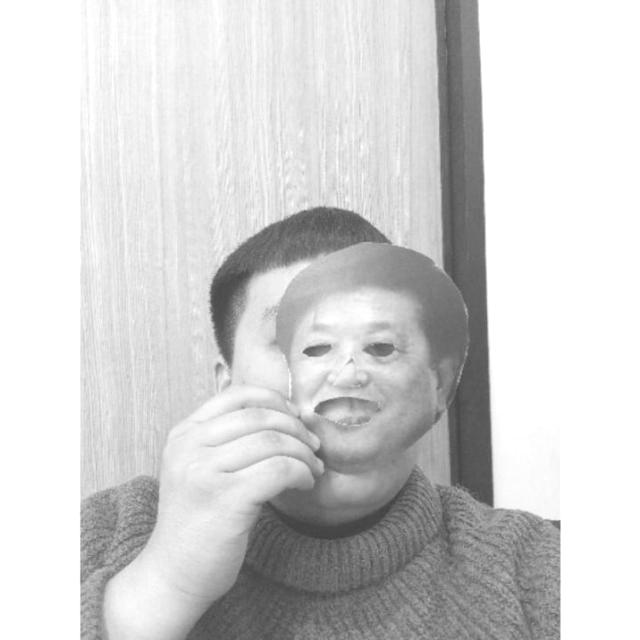fake: (274, 242, 471, 464)
